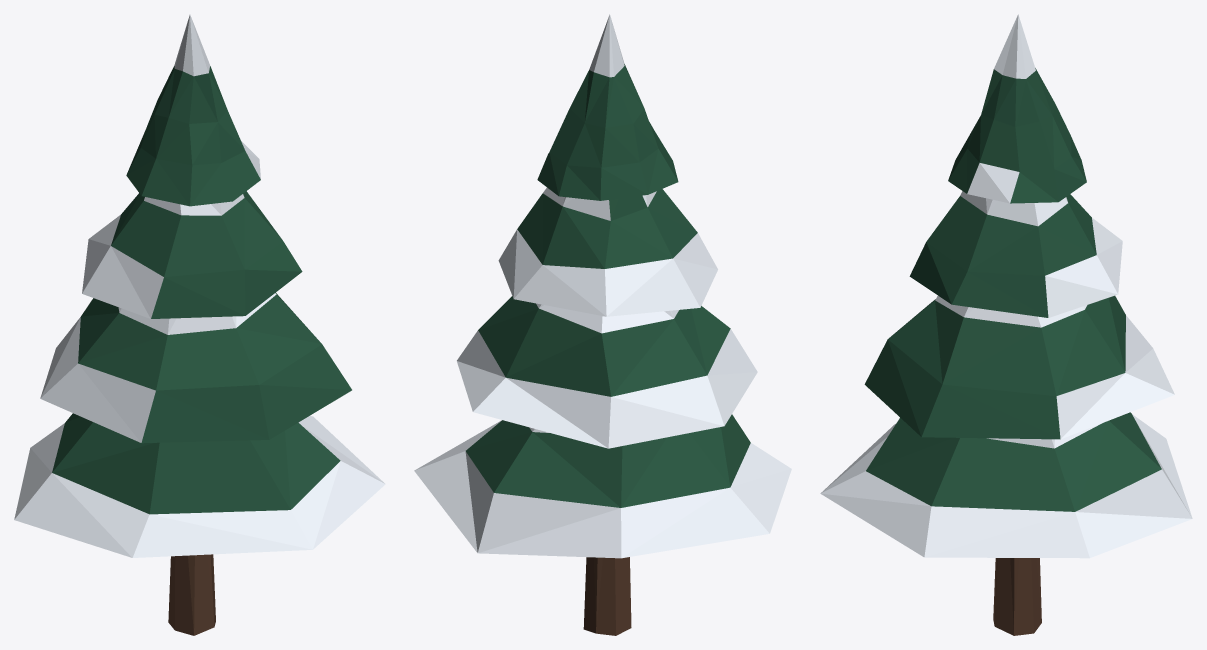
The model's file is pine_medium.glb.
The picture shows the model from 3 angles, left to right: view 1: azimuth 30°, elevation 25°; view 2: azimuth 150°, elevation 25°; view 3: azimuth 270°, elevation 25°; orthographic projection.
Visible parts, largest first — view 1: pine_medium; view 2: pine_medium; view 3: pine_medium.
Boxes of the visible parts, <box> form: pine_medium: <box>14,14,385,635</box>; pine_medium: <box>414,14,791,635</box>; pine_medium: <box>820,14,1192,635</box>.
Size of the model in its own units: 7.67 by 13.72 by 7.59.
Materials: 1 (1 with a texture image).
